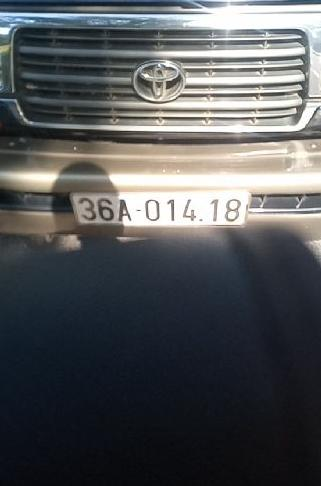Plate-iWeP: (70, 186, 251, 230)
